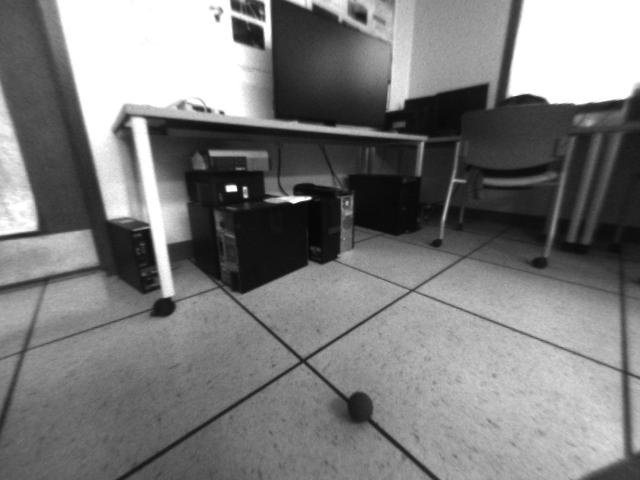dogtoy: (338, 382, 380, 429)
